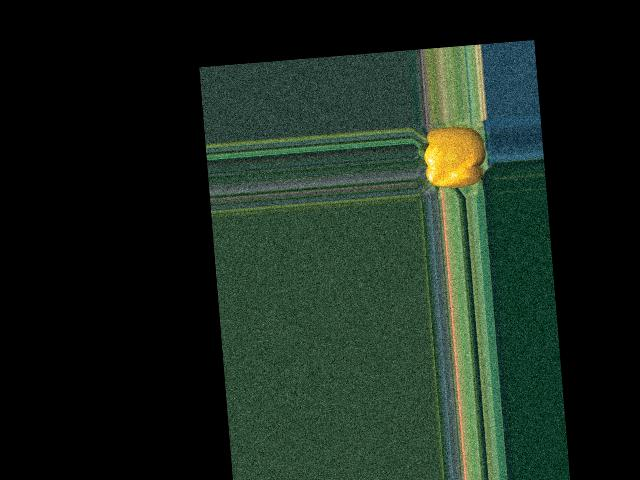bell_pepper: (416, 120, 489, 195)
